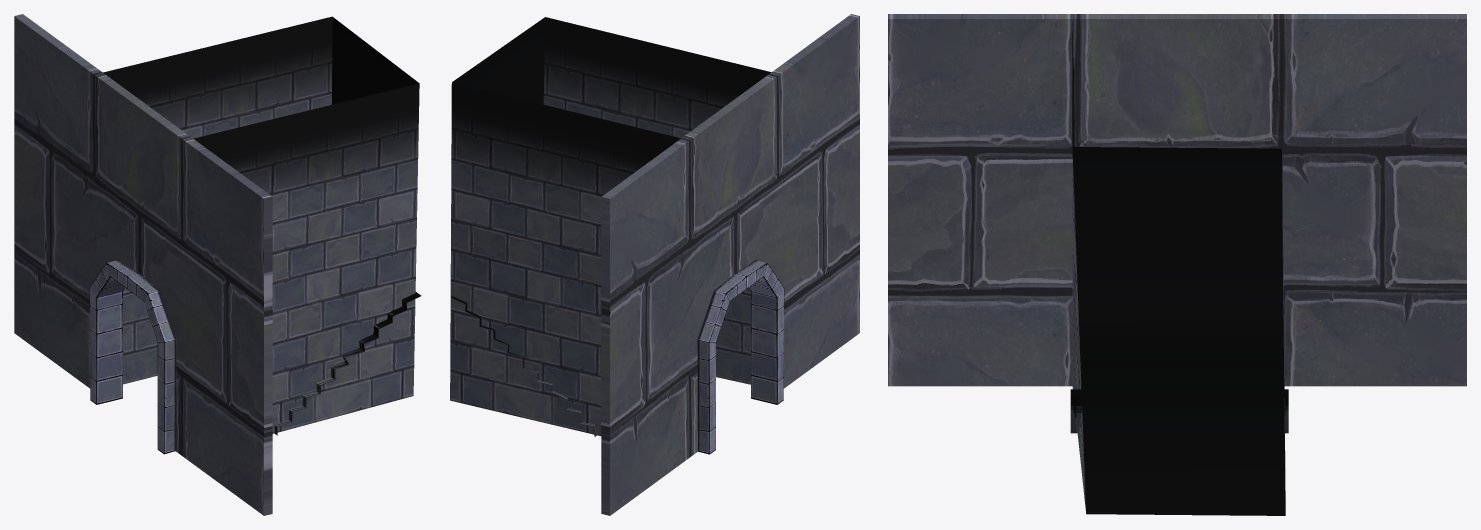
The model's file is dungeon_entrance.fbx.
The picture shows the model from 3 angles, left to right: view 1: azimuth 30°, elevation 25°; view 2: azimuth 150°, elevation 25°; view 3: azimuth 270°, elevation 25°; orthographic projection. The views are drawn at different scales.
Parts seen in each view (by area): view 1: suelo.002_Mesh.024_suelo.002_Mesh.003; view 2: suelo.002_Mesh.024_suelo.002_Mesh.003; view 3: suelo.002_Mesh.024_suelo.002_Mesh.003.
Boxes of the visible parts, x1,y1,x2,y2 form: suelo.002_Mesh.024_suelo.002_Mesh.003: (14,14,421,515); suelo.002_Mesh.024_suelo.002_Mesh.003: (450,14,859,515); suelo.002_Mesh.024_suelo.002_Mesh.003: (888,14,1466,515).
Bounding box in the file's own units: 578 × 700 × 1000.
